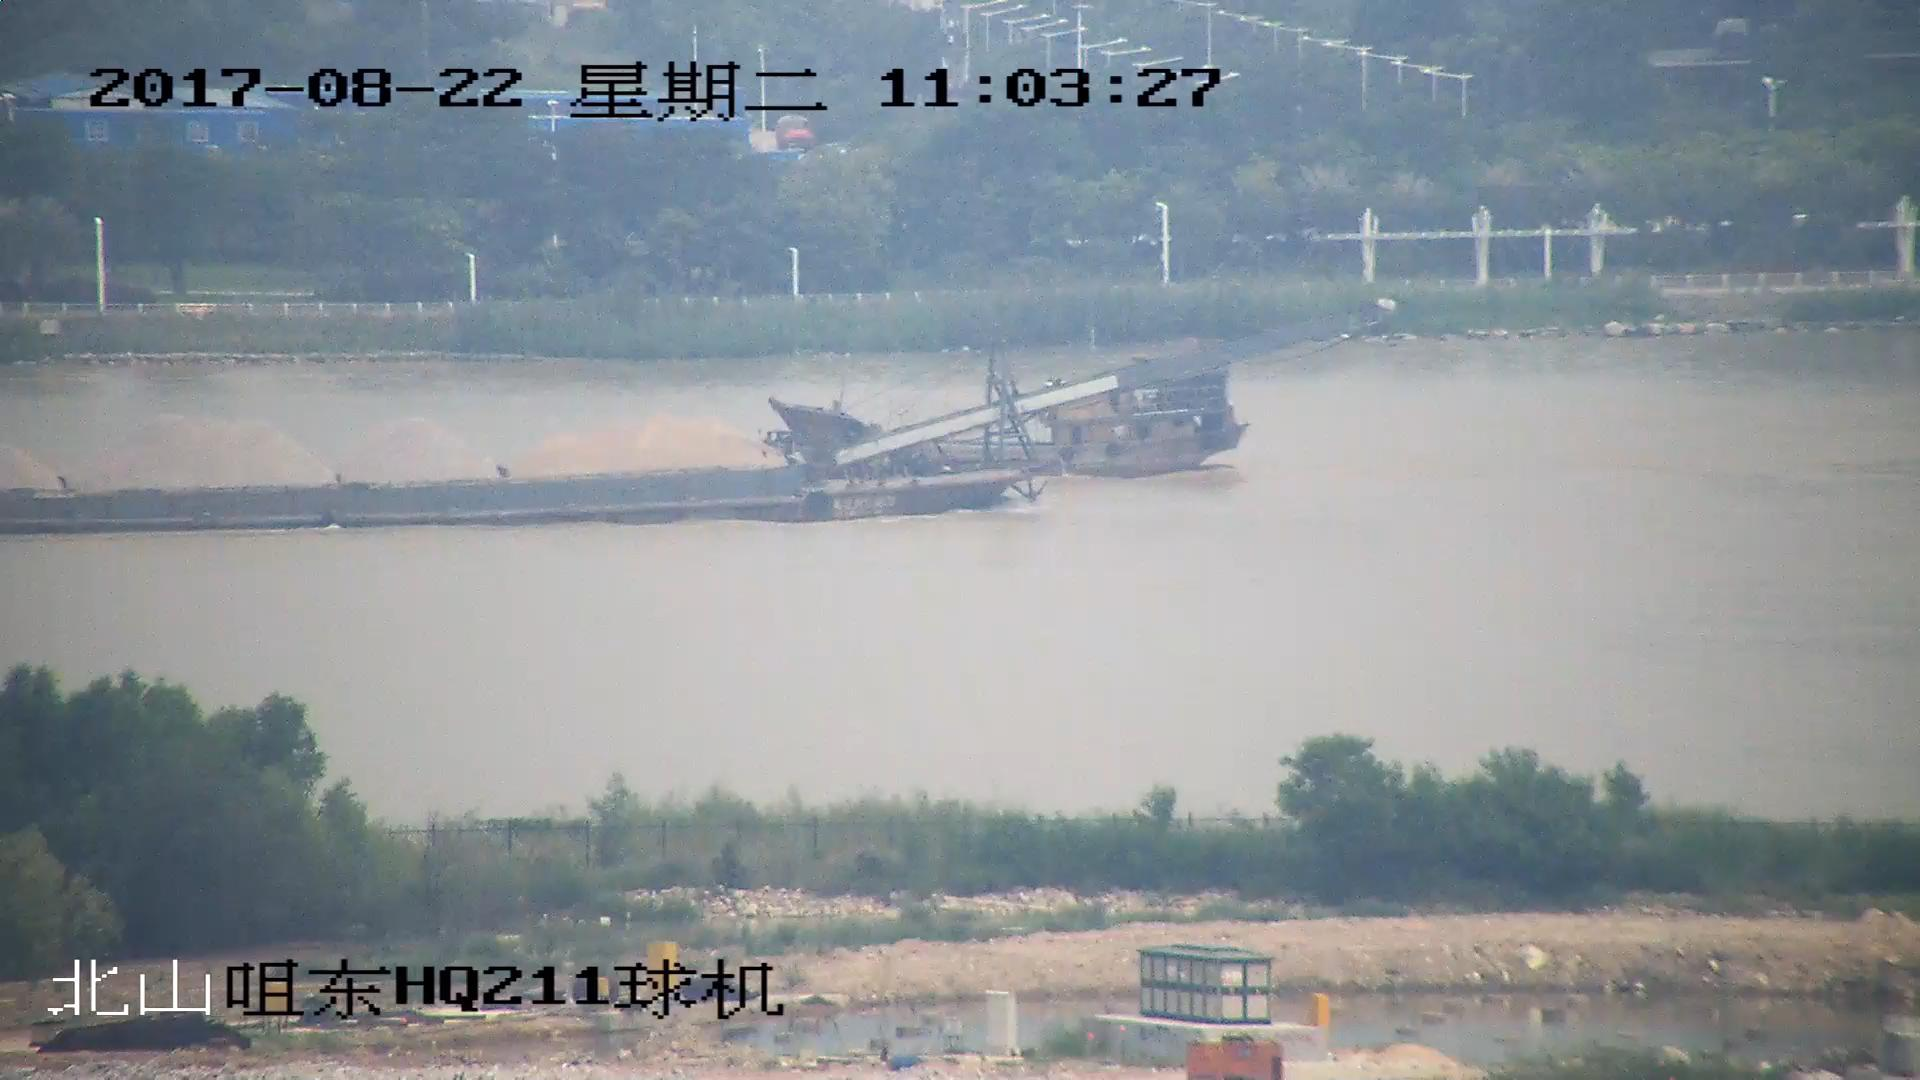Ship: (3, 305, 1390, 533), (773, 363, 1247, 475)
